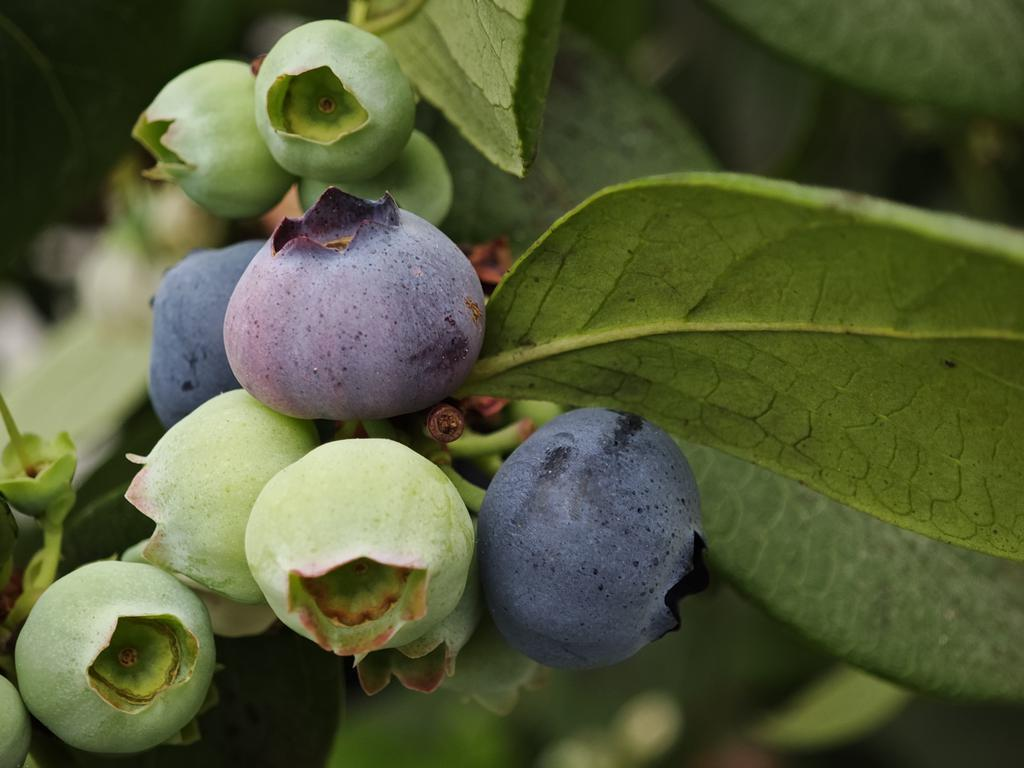RipeBlueBerry: (486, 404, 707, 663), (17, 560, 213, 751)
Semi-RipeBlueBerry: (224, 191, 480, 406)
UnripeBlueBerry: (248, 433, 472, 646), (252, 16, 412, 184)
